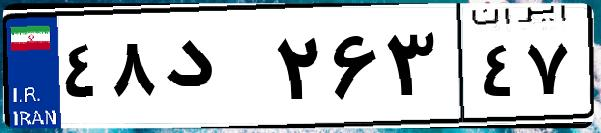2: (270, 28, 330, 110)
3: (385, 28, 445, 110)
4: (57, 26, 110, 100), (475, 38, 525, 113)
6: (330, 28, 385, 110)
7: (525, 38, 570, 115)
8: (110, 28, 158, 98)
د: (158, 20, 270, 120)
